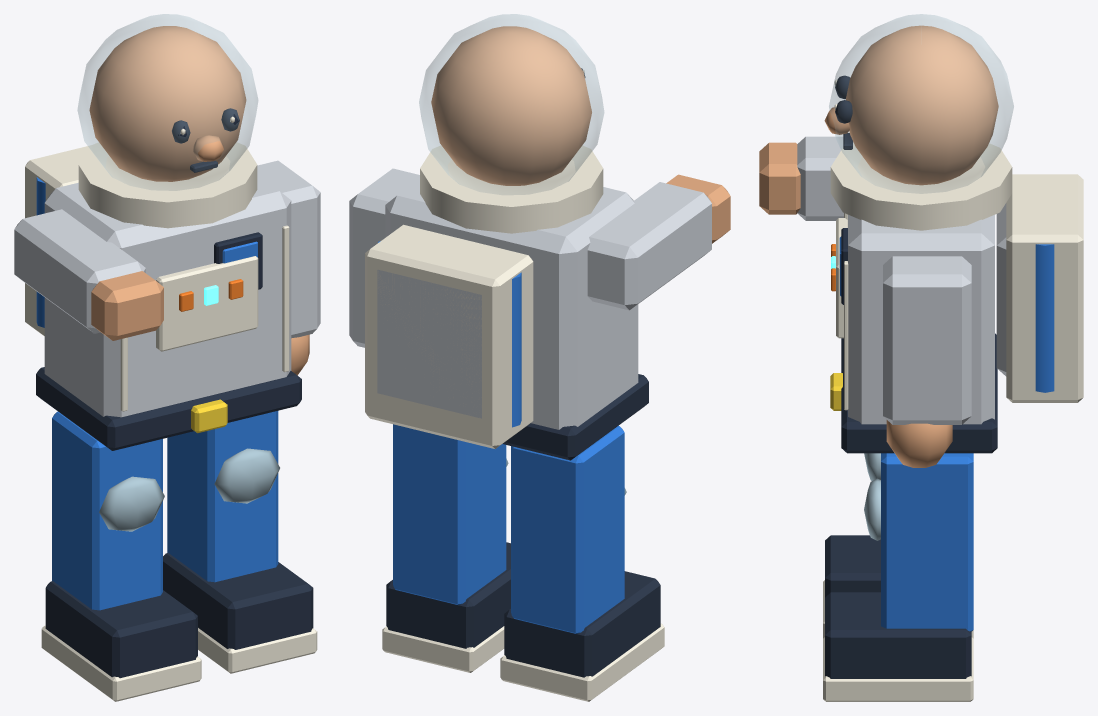
The model's file is fps_char_1.glb.
3 views of the same model, side by side, from view 1: azimuth 30°, elevation 25°; view 2: azimuth 150°, elevation 25°; view 3: azimuth 270°, elevation 25° (orthographic). The views are drawn at different scales.
Visible parts, largest first — view 1: detail_Paint, leg_r, leg_l, Bubble helmet, detail_Vanilla plastic, head_core, detail_Ink navy, arm_l, right_hand, detail_Blueberry, Buckle, detail_Warm vinyl (+1 smaller); view 2: detail_Paint, leg_r, detail_Vanilla plastic, leg_l, Bubble helmet, head_core, arm_l, detail_Ink navy, detail_Blueberry, right_hand; view 3: leg_l, detail_Vanilla plastic, Bubble helmet, detail_Paint, head_core, arm_l, detail_Ink navy, leg_r, detail_Blueberry, right_hand.
Part boxes in pixels (x1=…): detail_Paint: x1=14, y1=175, x2=291, y2=417; leg_r: x1=41, y1=411, x2=201, y2=701; leg_l: x1=163, y1=411, x2=317, y2=673; Bubble helmet: x1=77, y1=14, x2=258, y2=190; detail_Vanilla plastic: x1=25, y1=116, x2=289, y2=411; head_core: x1=89, y1=26, x2=246, y2=181; detail_Ink navy: x1=36, y1=108, x2=301, y2=450; arm_l: x1=257, y1=160, x2=320, y2=375; right_hand: x1=91, y1=271, x2=163, y2=340; detail_Blueberry: x1=36, y1=177, x2=257, y2=327; Buckle: x1=191, y1=399, x2=227, y2=433; detail_Warm vinyl: x1=192, y1=135, x2=223, y2=161; detail_Paint: x1=377, y1=179, x2=711, y2=429; leg_r: x1=500, y1=425, x2=664, y2=701; detail_Vanilla plastic: x1=365, y1=69, x2=603, y2=448; leg_l: x1=382, y1=424, x2=510, y2=672; Bubble helmet: x1=419, y1=14, x2=604, y2=194; head_core: x1=431, y1=26, x2=591, y2=185; arm_l: x1=349, y1=168, x2=419, y2=347; detail_Ink navy: x1=503, y1=68, x2=648, y2=460; detail_Blueberry: x1=378, y1=241, x2=521, y2=427; right_hand: x1=666, y1=174, x2=730, y2=243; leg_l: x1=823, y1=453, x2=973, y2=701; detail_Vanilla plastic: x1=830, y1=79, x2=1083, y2=410; Bubble helmet: x1=829, y1=14, x2=1013, y2=193; detail_Paint: x1=797, y1=136, x2=1006, y2=424; head_core: x1=845, y1=25, x2=998, y2=185; arm_l: x1=883, y1=256, x2=971, y2=467; detail_Ink navy: x1=835, y1=75, x2=997, y2=453; leg_r: x1=823, y1=453, x2=973, y2=638; detail_Blueberry: x1=839, y1=236, x2=1054, y2=392; right_hand: x1=759, y1=142, x2=800, y2=214.
Bounding box in the file's own units: 0.84 × 1.8 × 0.84.
